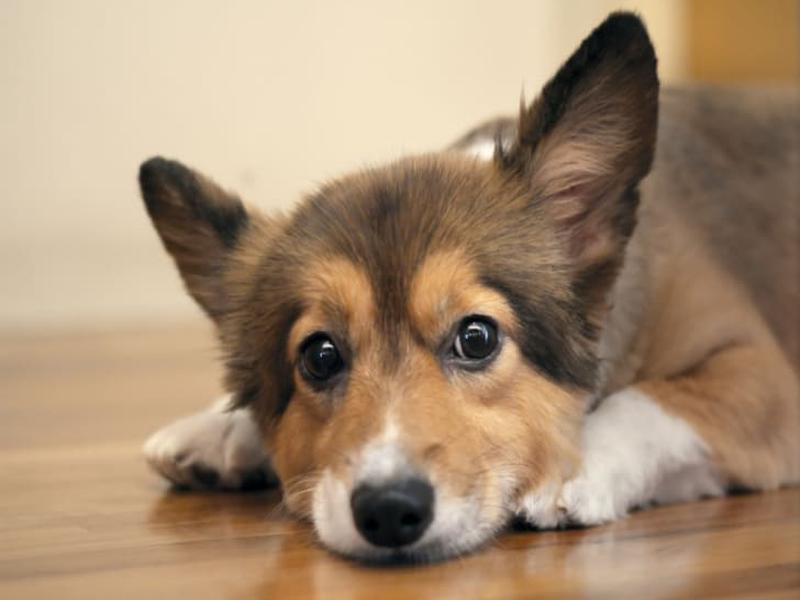corgi: (139, 8, 667, 562)
